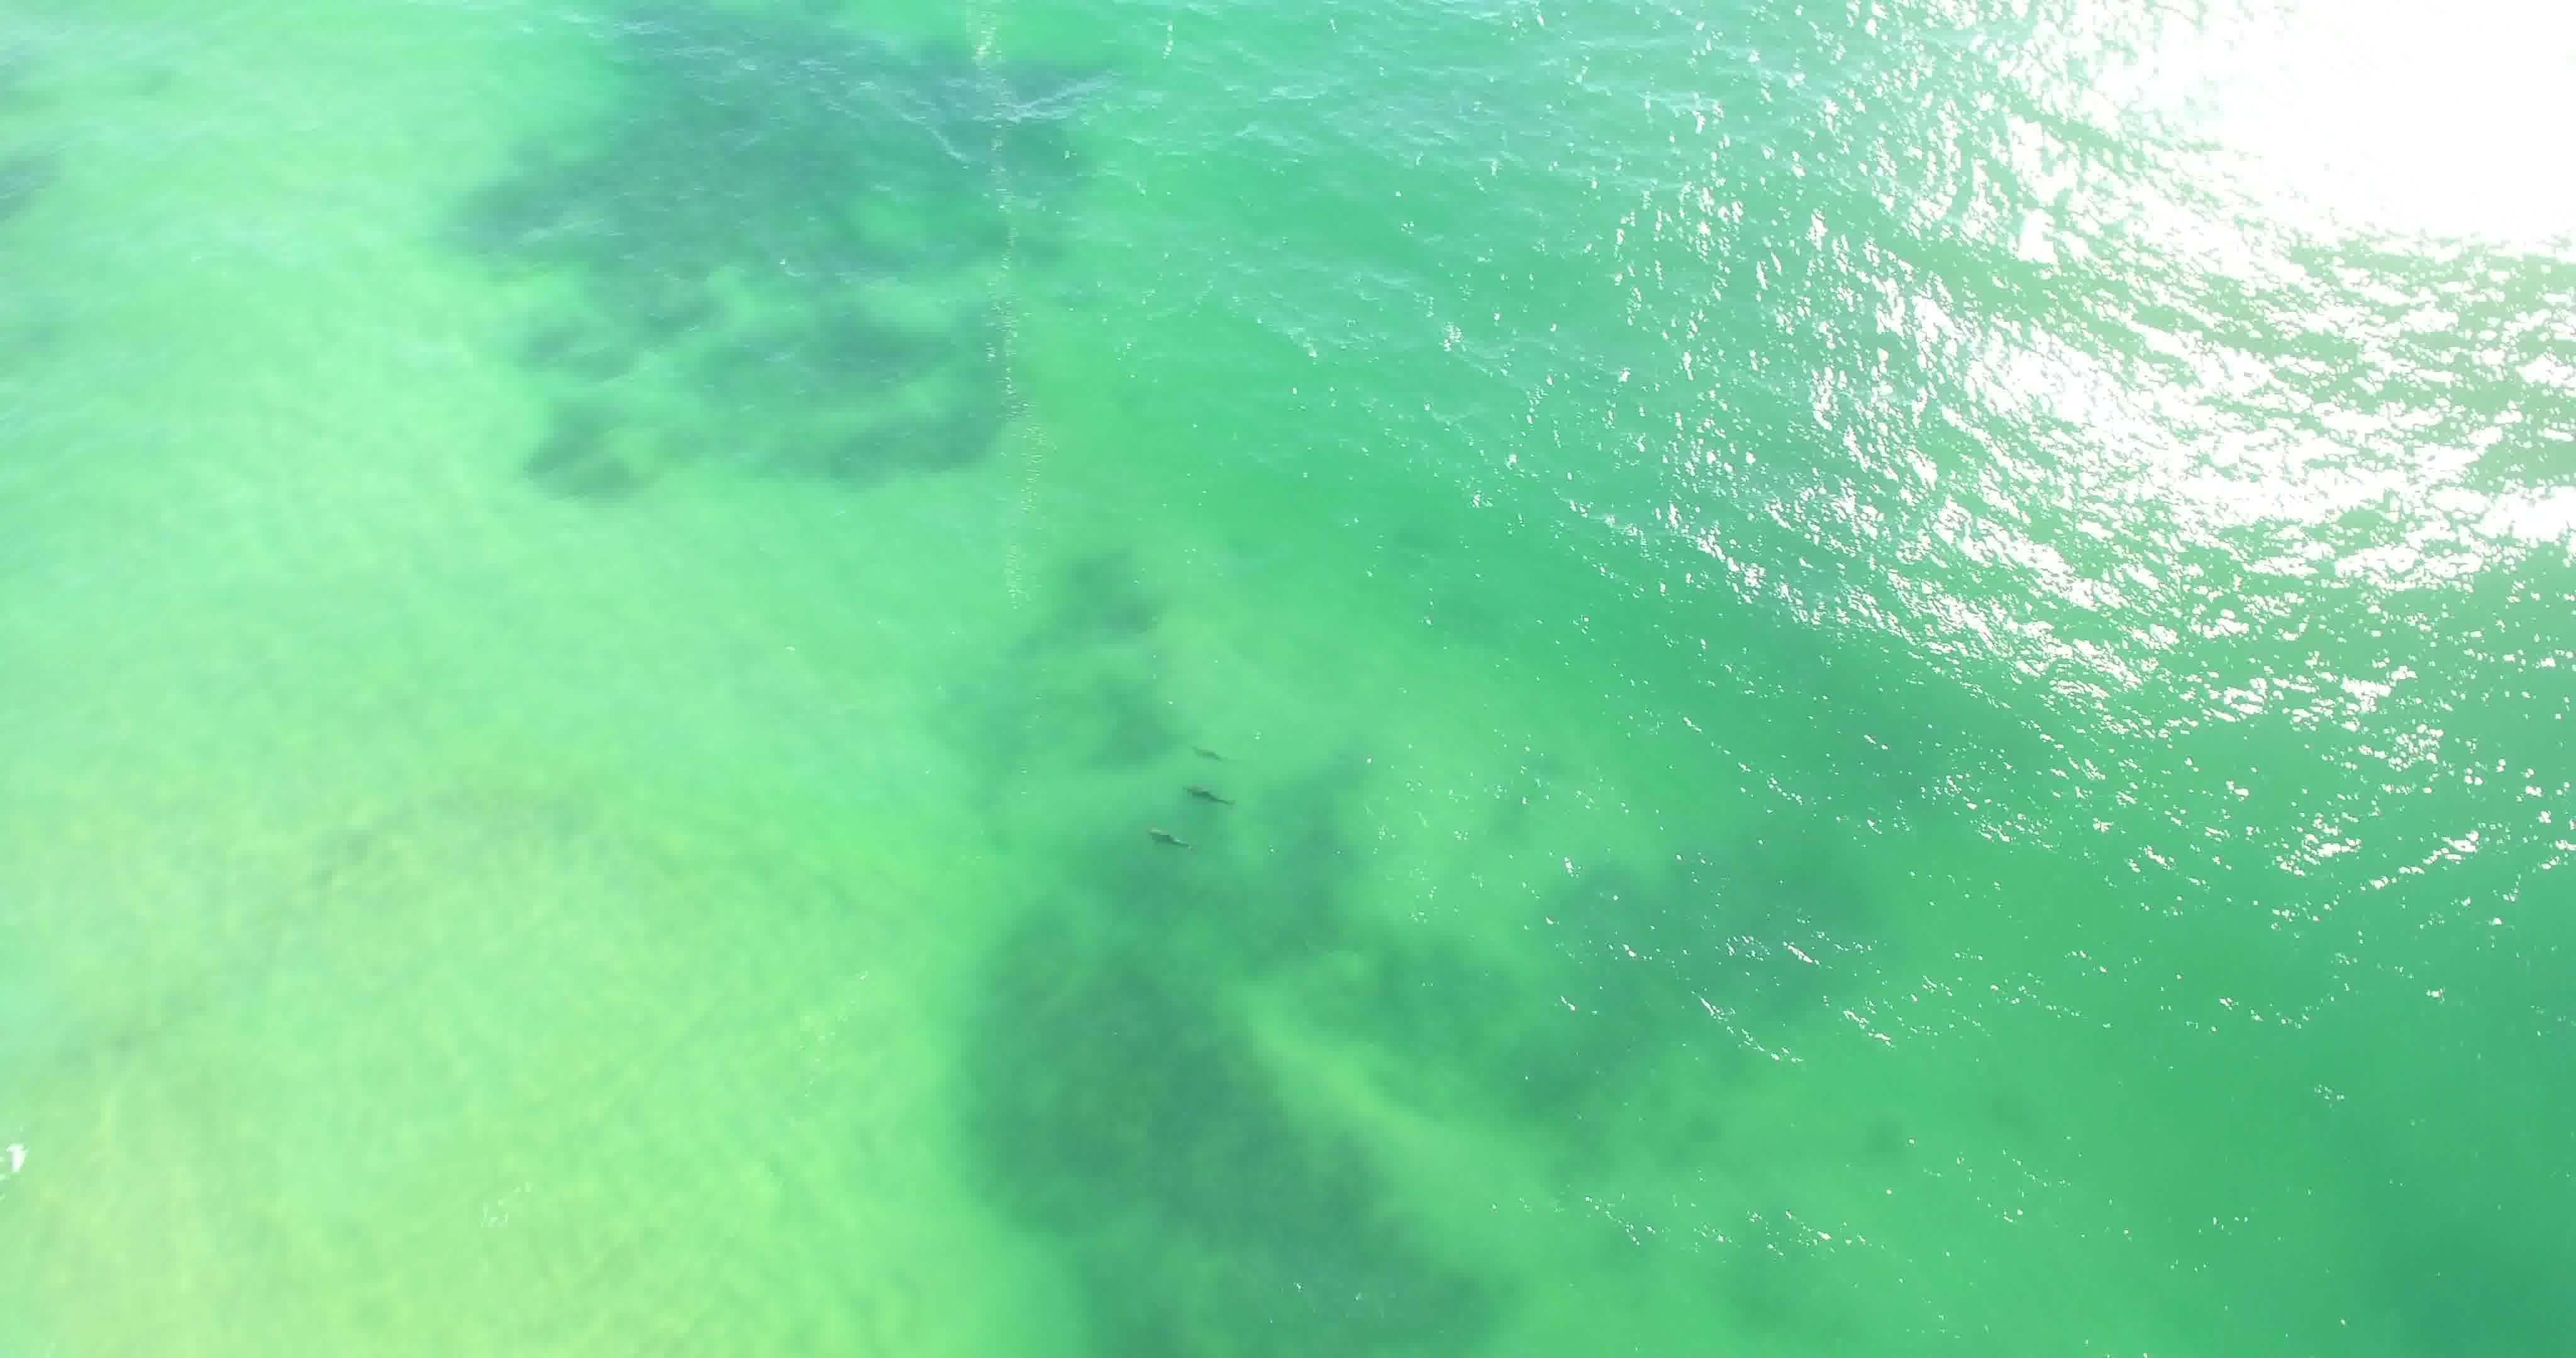dolphin: (1119, 809, 1205, 862), (1170, 721, 1244, 775), (1155, 779, 1242, 814)
